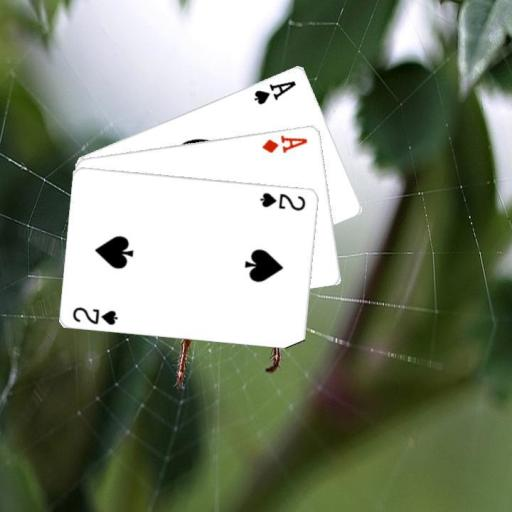2S: (257, 188, 307, 212), (70, 304, 120, 327)
AD: (259, 132, 309, 155)
AS: (251, 77, 298, 106)
